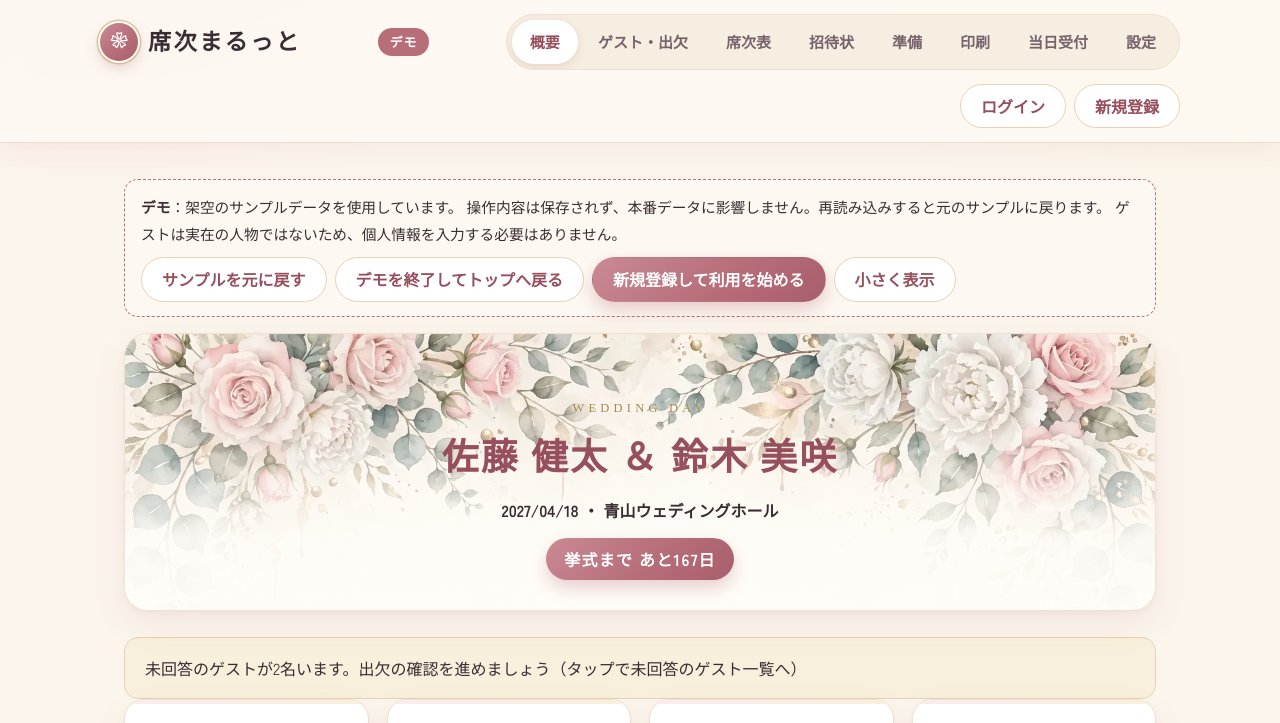
Test case: 画面分離（トップ/デモ/ログイン/本番） › デモの招待状タブでは招待リンクを発行しない
The image size is (1280, 723).
Click the tab "招待状".
click(831, 42)  # box [791, 20, 872, 64]
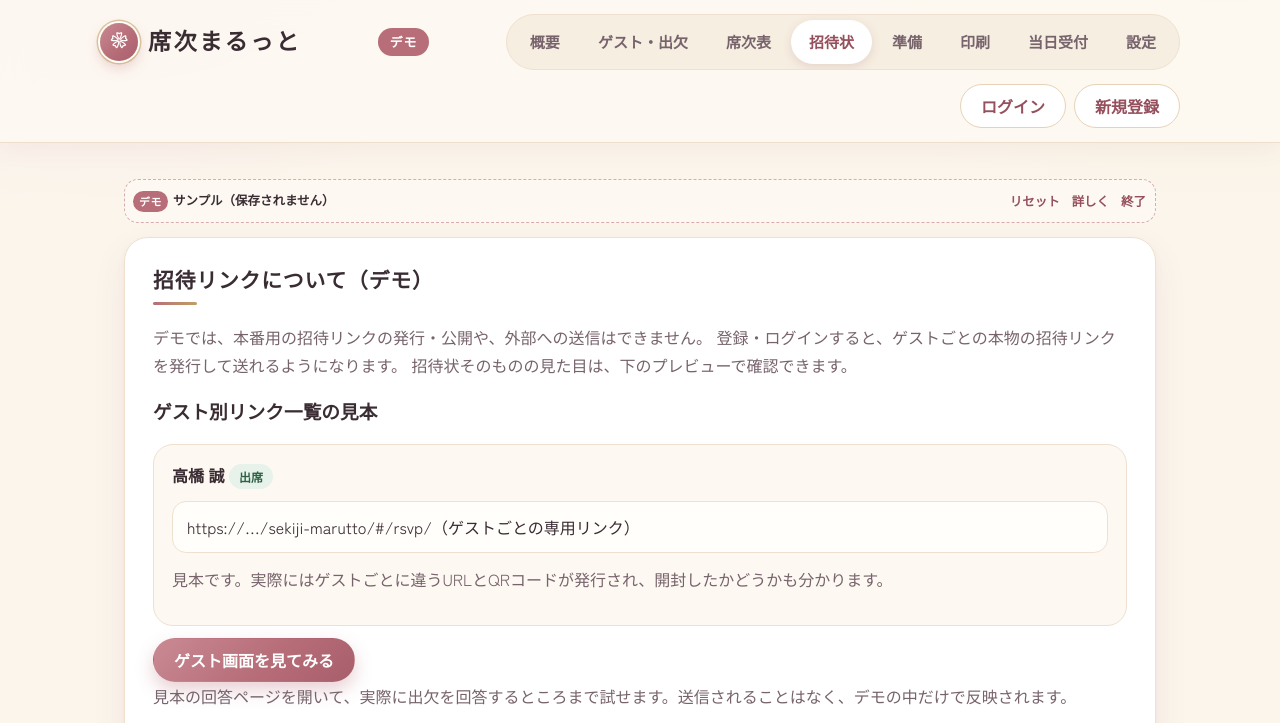
Result: the text "デモでは、本番用の招待リンクの発行・公開や、外部への送信はできません" is shown at [153, 325, 1116, 377]
